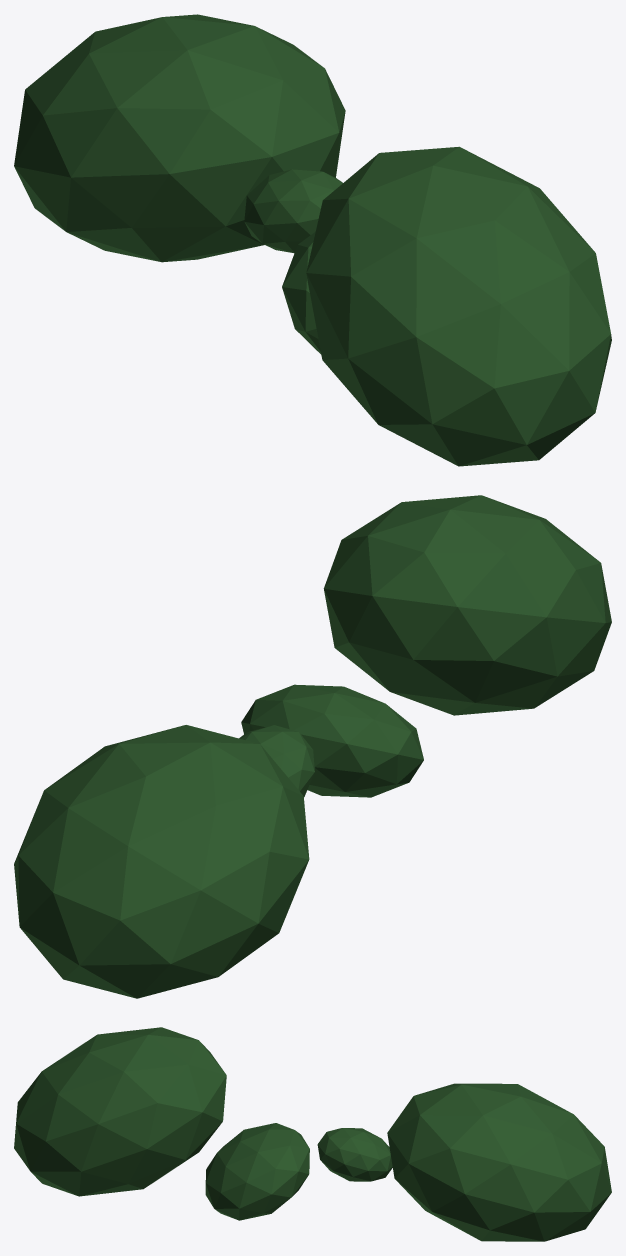
The model's file is ARBOL.glb.
3 renders of one model, top to bottom at view 1: azimuth 30°, elevation 25°; view 2: azimuth 150°, elevation 25°; view 3: azimuth 270°, elevation 25°, orthographic. The views are drawn at different scales.
Parts seen in each view (by area): view 1: Icosphere.003, Icosphere, Icosphere.002, Icosphere.001; view 2: Icosphere, Icosphere.003, Icosphere.001, Icosphere.002; view 3: Icosphere, Icosphere.003, Icosphere.001, Icosphere.002.
Boxes of the visible parts, x1,y1,x2,y2 form: Icosphere.003: [306, 146, 611, 466]; Icosphere: [14, 14, 345, 262]; Icosphere.002: [244, 168, 342, 253]; Icosphere.001: [282, 232, 321, 354]; Icosphere: [14, 725, 309, 998]; Icosphere.003: [323, 495, 611, 715]; Icosphere.001: [241, 684, 423, 797]; Icosphere.002: [239, 725, 314, 796]; Icosphere: [387, 1083, 611, 1241]; Icosphere.003: [14, 1027, 226, 1196]; Icosphere.001: [205, 1123, 309, 1220]; Icosphere.002: [317, 1128, 392, 1181].
Size of the model in its own units: 1.91 by 1.87 by 5.38.
